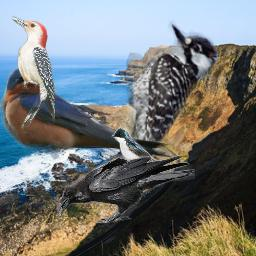Crow: (57, 155, 195, 223)
Swallow: (0, 66, 186, 162), (111, 127, 170, 172)
Woodpecker: (99, 19, 218, 169), (10, 16, 55, 129)
